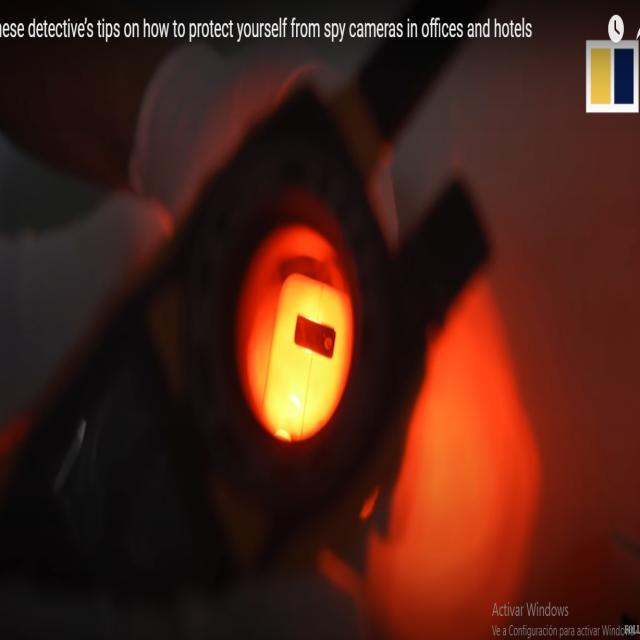hidden camera: (322, 331, 336, 352)
